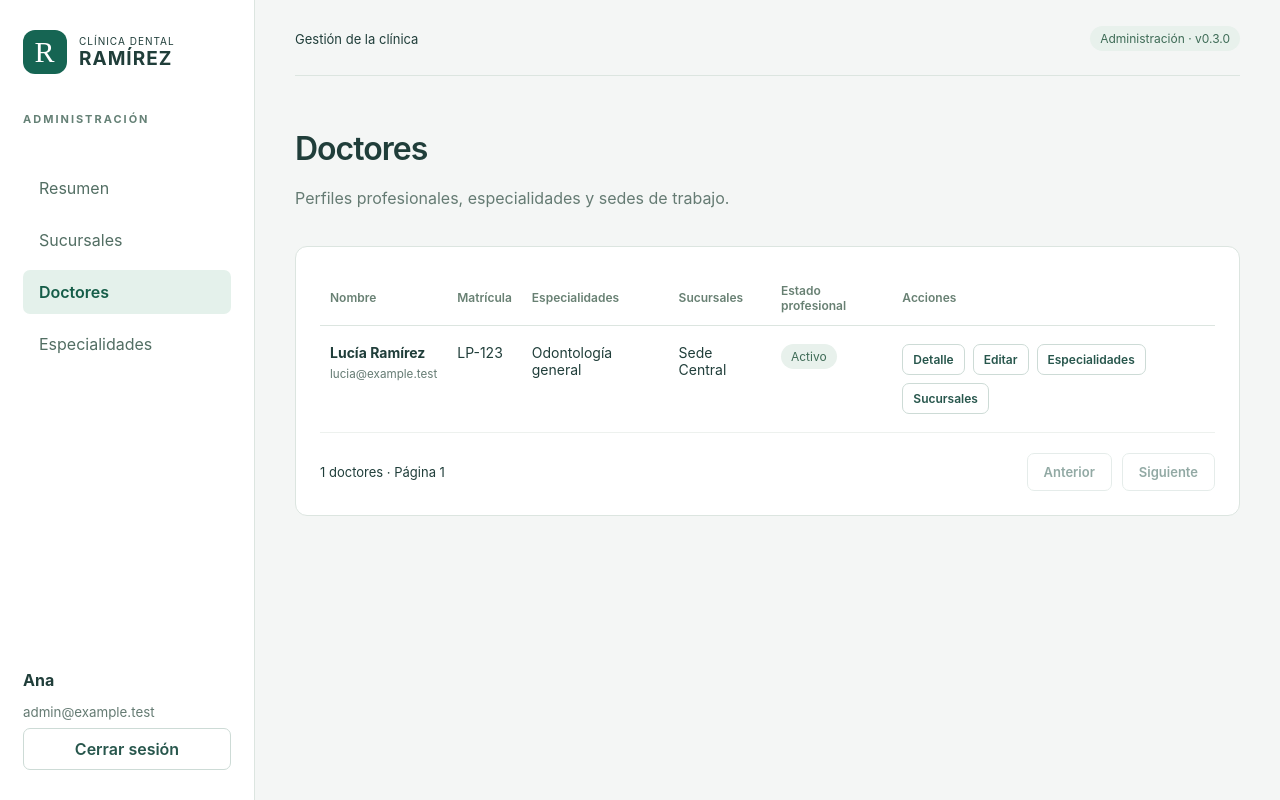
asigna múltiples sucursales conservando la selección existente
Click the button "Sucursales". click: {"x": 946, "y": 398}
box: [902,383,989,414]
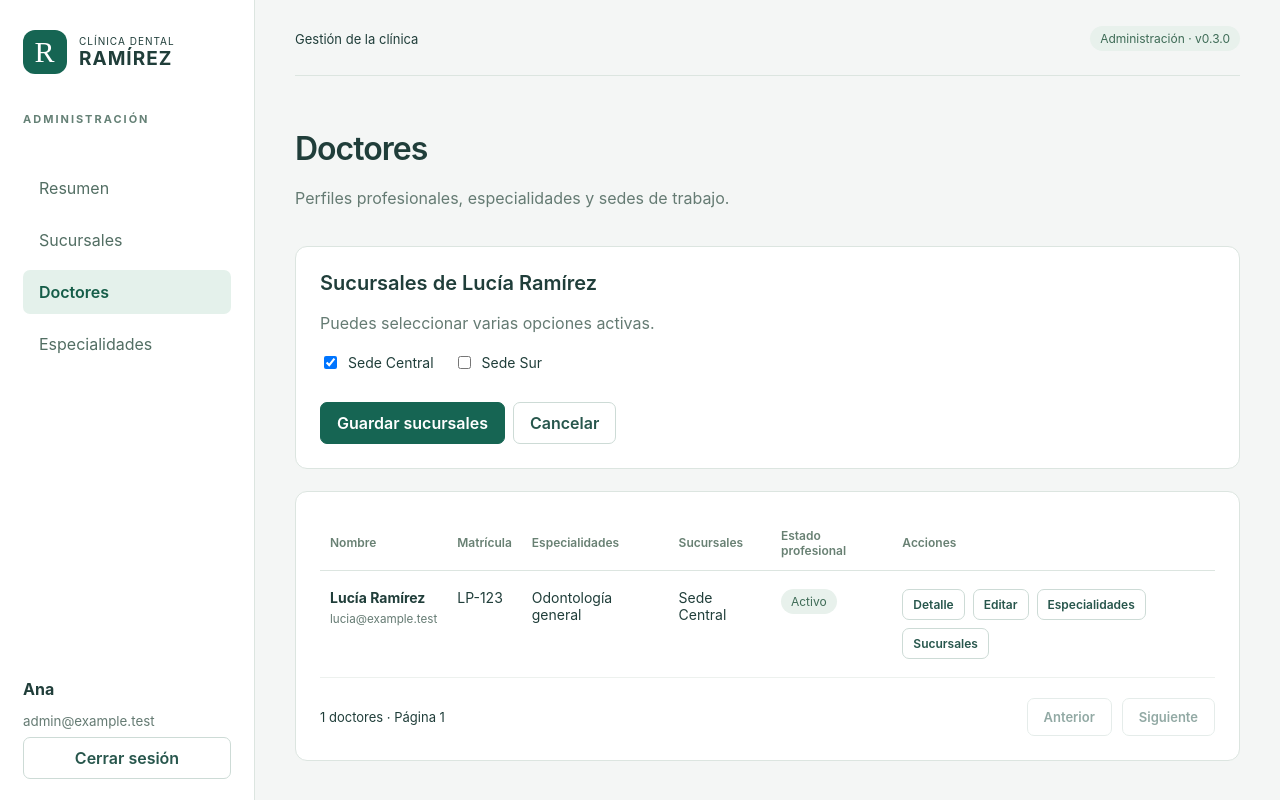
expect the checkbox labelled "Sede Central" is checked: met, box [324,356,337,369]
Click the checkbox labelled "Sede Sur". click: {"x": 464, "y": 362}
box: [458,356,471,369]
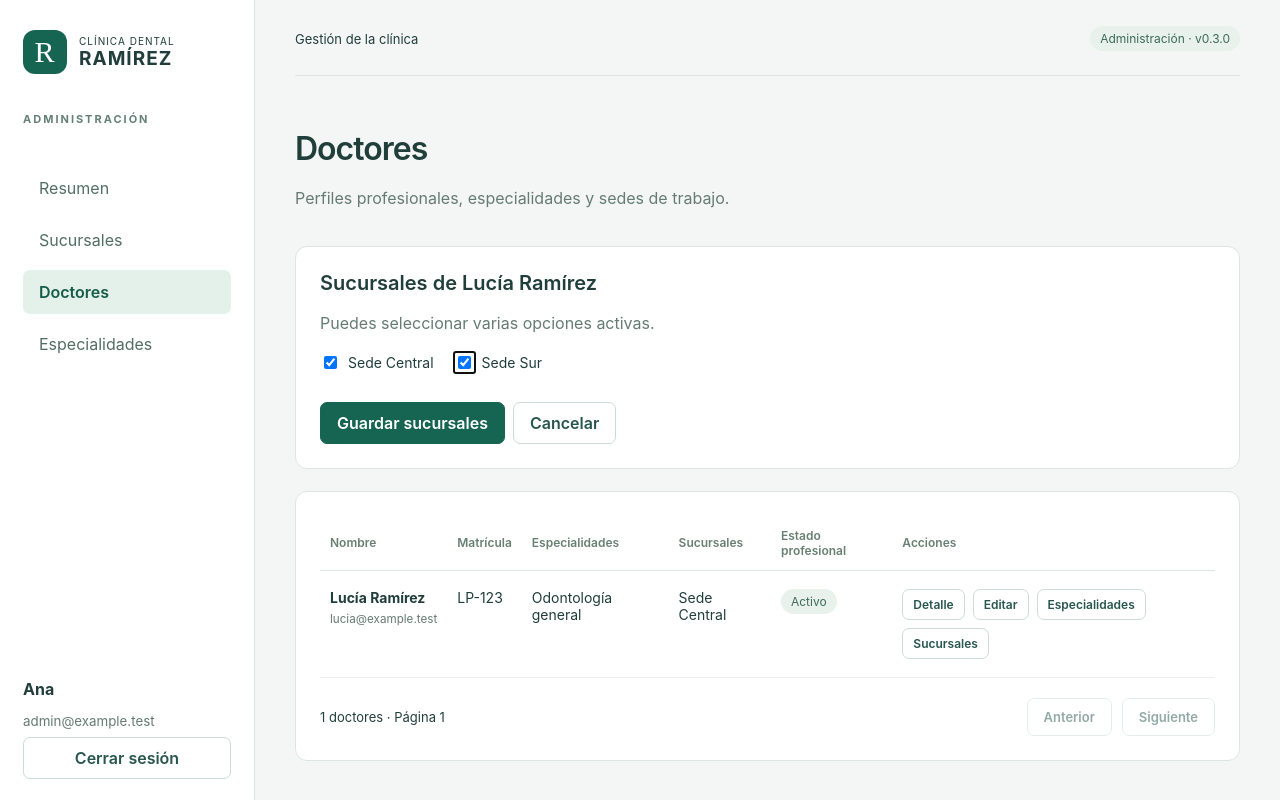
Click the checkbox labelled "Sede Sur". click: {"x": 464, "y": 362}
box: [458,356,471,369]
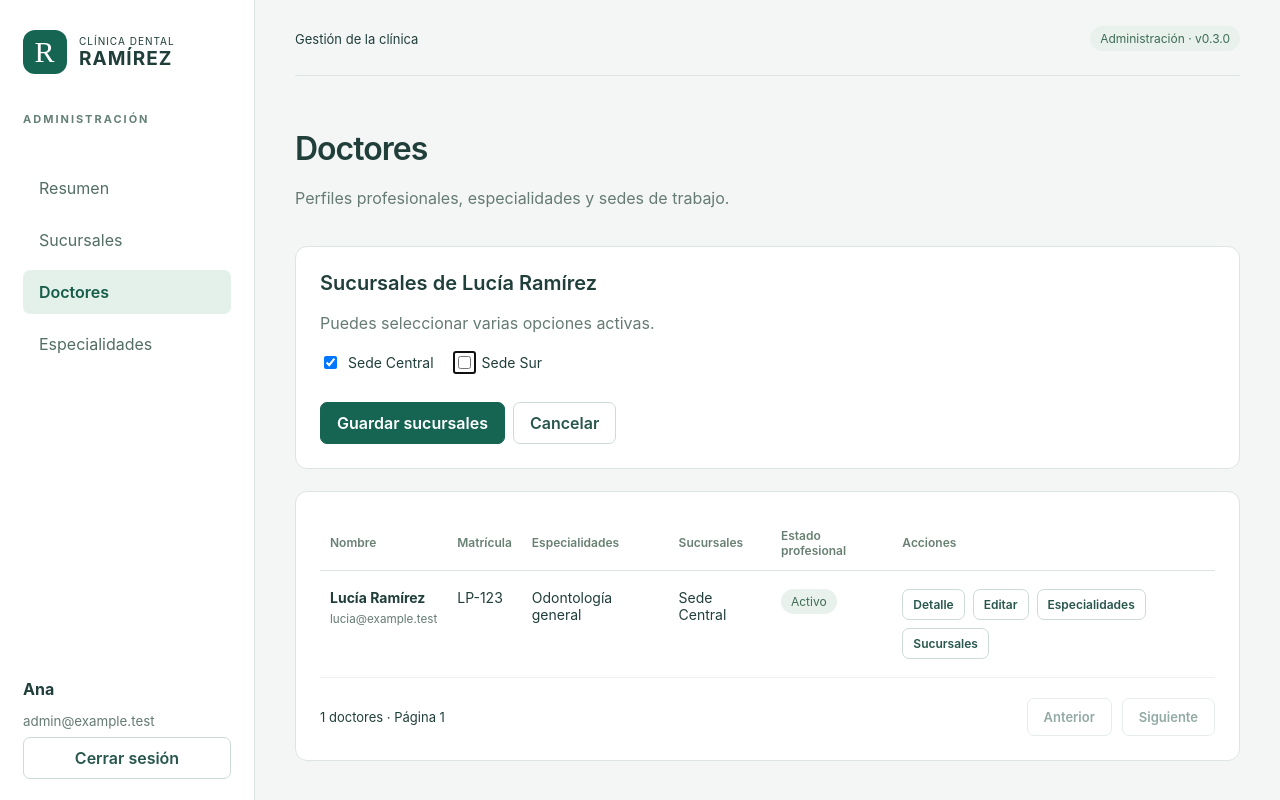
Click the checkbox labelled "Sede Sur". click: {"x": 464, "y": 362}
box: [458,356,471,369]
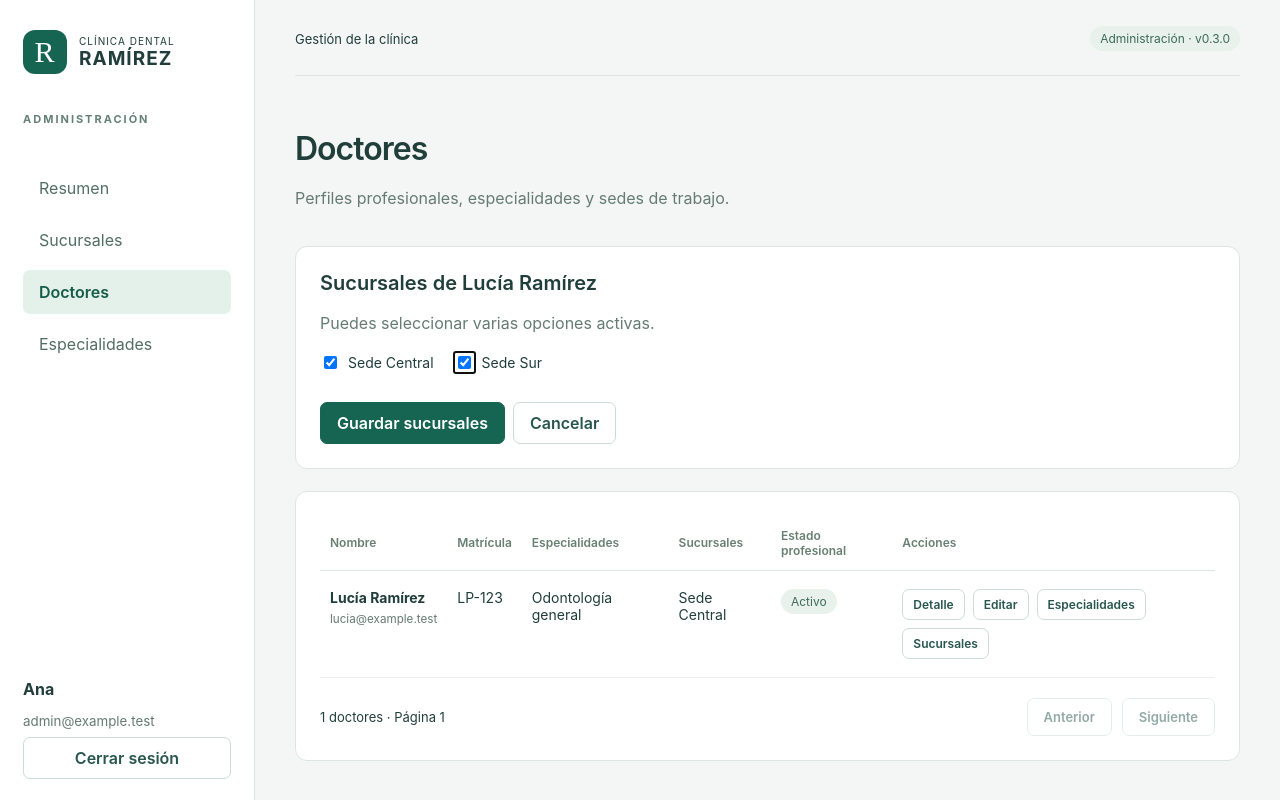
Click the button "Guardar sucursales". click: {"x": 412, "y": 423}
box: [320,402,505,444]
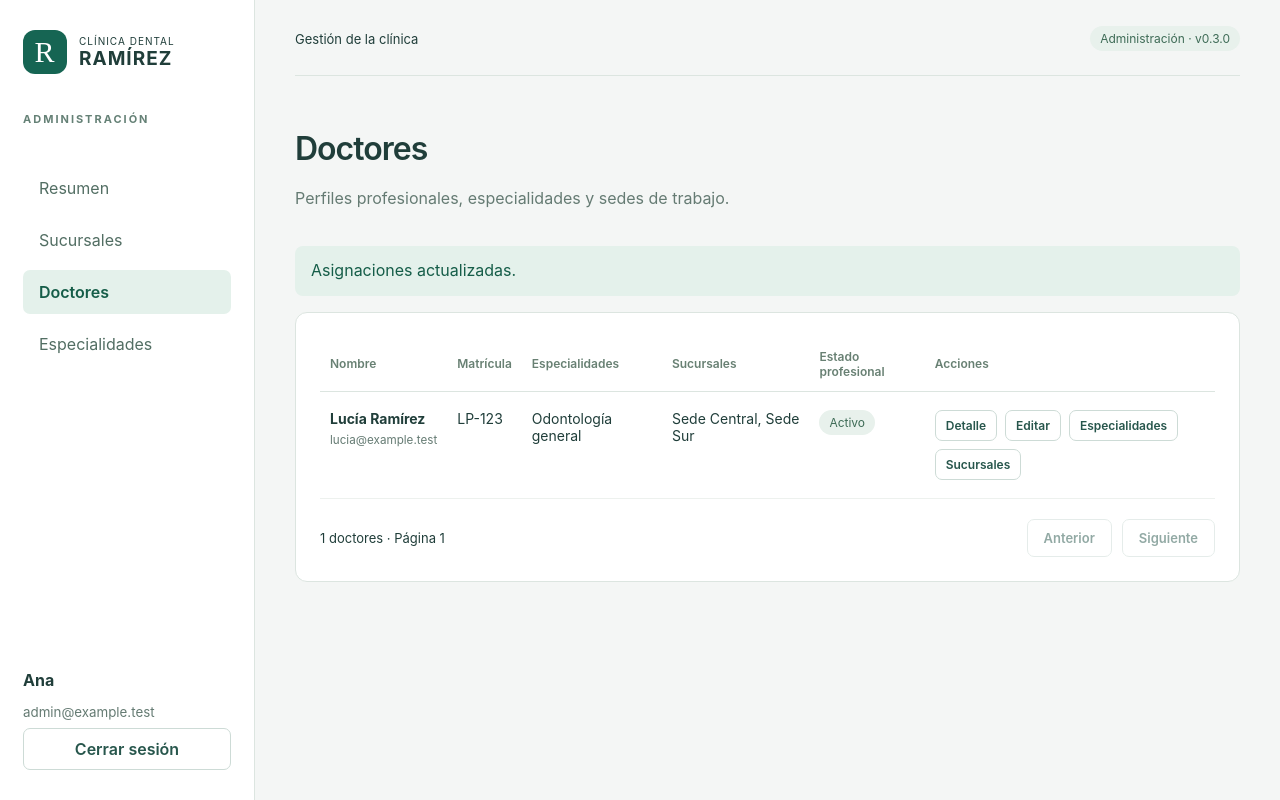
expect the text "Asignaciones actualizadas." is shown: met, box [295,246,1240,296]
expect the text "Sede Central, Sede Sur" is shown: met, box [662,391,809,498]
